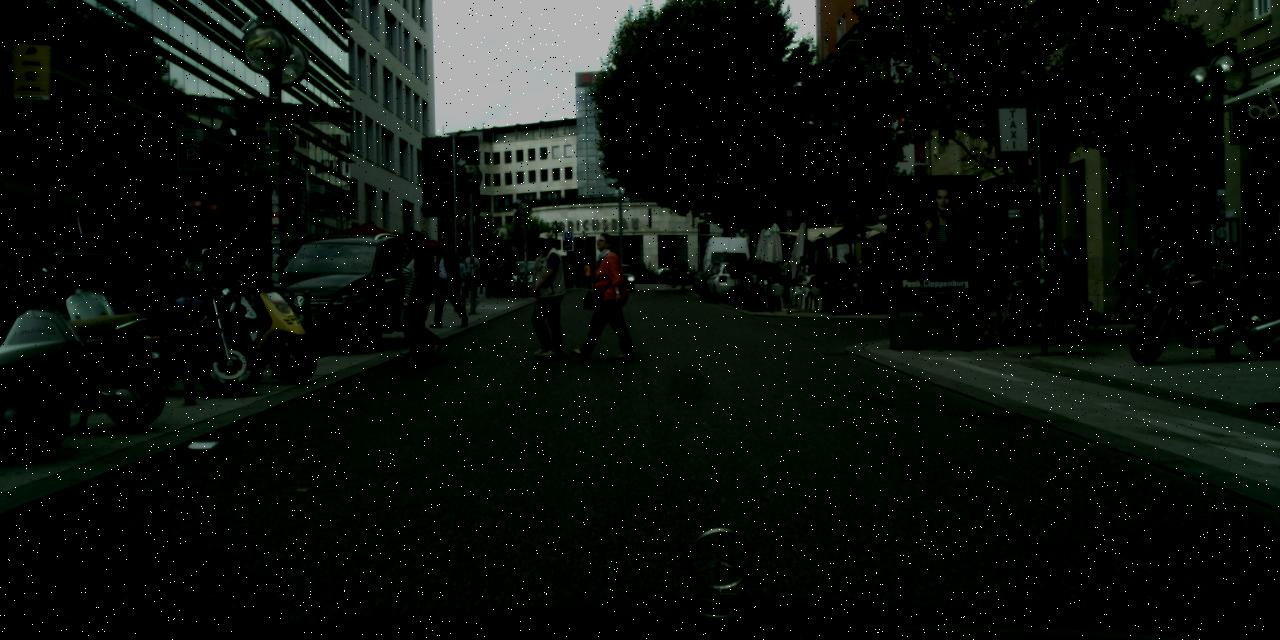ped: (0, 210, 72, 402), (394, 229, 447, 358), (578, 232, 628, 357), (522, 232, 572, 356), (392, 236, 439, 354), (1034, 231, 1073, 327), (1054, 236, 1092, 329), (431, 239, 466, 325), (1140, 234, 1174, 317), (220, 240, 250, 315), (1114, 248, 1144, 320), (256, 236, 286, 308), (1055, 244, 1084, 316), (1122, 244, 1150, 314), (233, 240, 259, 306), (805, 253, 849, 287), (879, 252, 900, 303), (462, 250, 481, 296), (855, 254, 873, 298), (498, 254, 516, 296), (451, 256, 468, 300), (456, 256, 471, 294), (494, 258, 508, 296), (770, 262, 794, 282), (476, 258, 490, 292), (581, 260, 592, 288), (672, 260, 682, 288), (575, 262, 584, 284), (566, 262, 574, 284), (852, 257, 858, 283), (589, 262, 596, 282), (797, 264, 803, 282)
